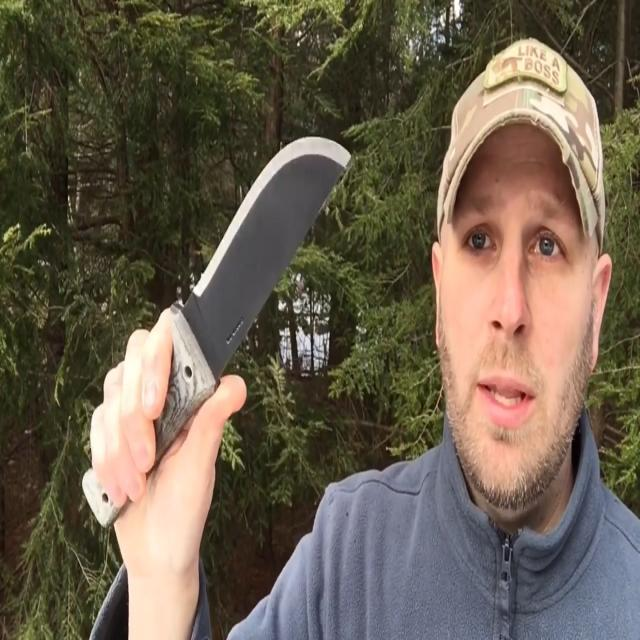knife: (157, 129, 355, 411)
